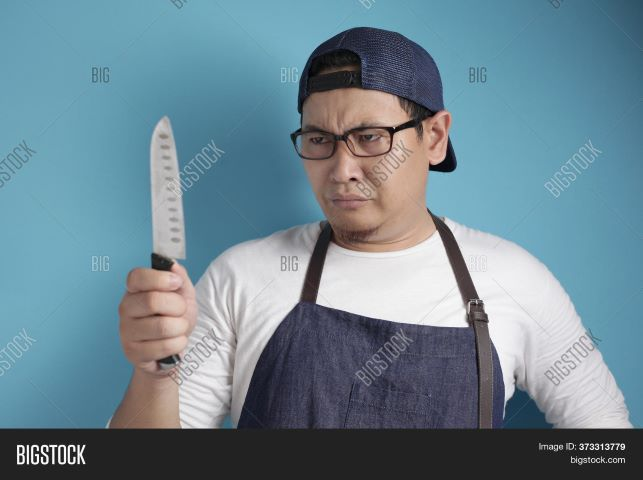knife: (140, 113, 190, 377)
